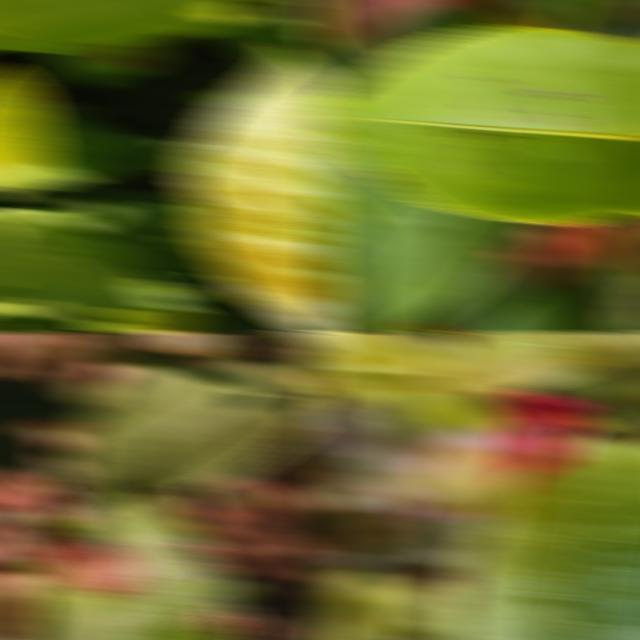Leaf: (316, 25, 640, 224), (180, 46, 336, 332), (55, 362, 321, 513), (446, 434, 640, 640), (9, 487, 237, 640), (349, 183, 536, 332), (333, 3, 496, 90), (0, 0, 267, 53), (438, 332, 623, 397), (316, 332, 458, 412), (460, 266, 626, 332), (316, 133, 390, 240), (0, 65, 54, 193), (316, 239, 374, 332), (386, 576, 459, 632), (0, 427, 60, 484), (316, 616, 388, 640)
